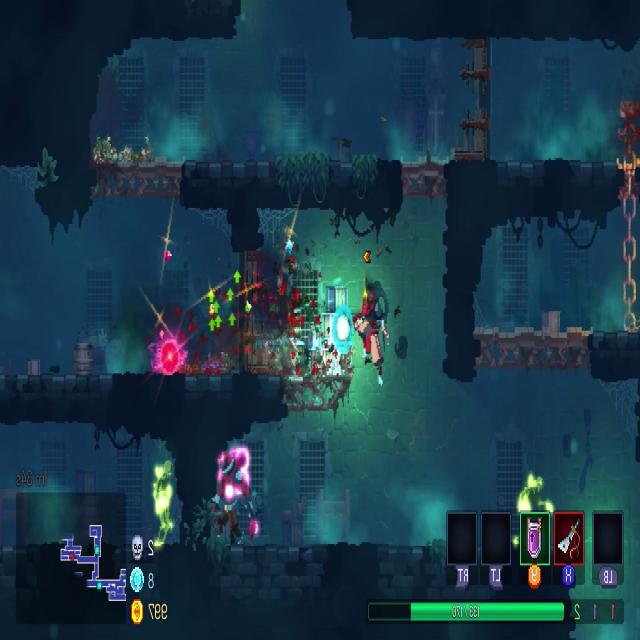agents: (353, 290, 387, 387)
enemy_green_puncher: (152, 462, 172, 544), (515, 471, 551, 515)
enemy_purple_big: (208, 448, 254, 545)
wood_floor: (472, 324, 591, 371), (91, 154, 185, 202), (284, 373, 351, 410), (399, 160, 448, 201)
